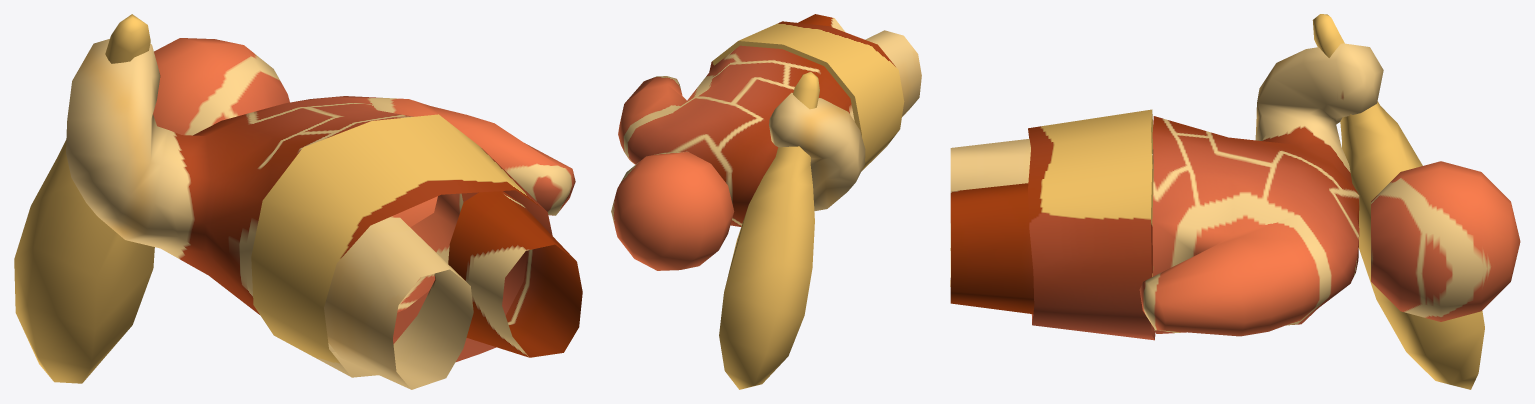
Rendered from Fathuman.fbx.
3 views of the same model, side by side, from view 1: azimuth 30°, elevation 25°; view 2: azimuth 150°, elevation 25°; view 3: azimuth 270°, elevation 25° (orthographic). The views are drawn at different scales.
Parts seen in each view (by area): view 1: Bhum; view 2: Bhum; view 3: Bhum.
Part boxes in pixels (x1=…): Bhum: x1=14, y1=14, x2=582, y2=389; Bhum: x1=611, y1=14, x2=921, y2=389; Bhum: x1=950, y1=14, x2=1520, y2=389.
Size of the model in its own units: 151 by 145 by 205.
